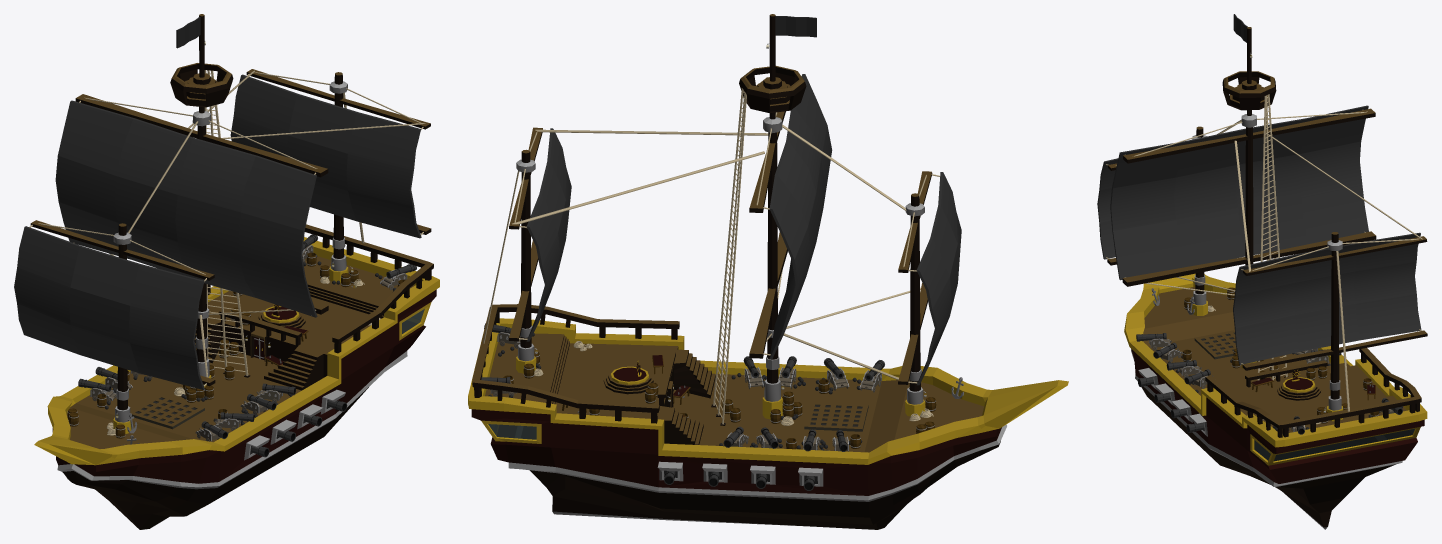
File: pirateship-greggoryfisher.glb
The picture shows the model from 3 angles, left to right: view 1: azimuth 30°, elevation 25°; view 2: azimuth 150°, elevation 25°; view 3: azimuth 270°, elevation 25°; orthographic projection. The views are drawn at different scales.
Visible parts, largest first — view 1: SM_Galleon; view 2: SM_Galleon; view 3: SM_Galleon.
Boxes of the visible parts, x1,y1,x2,y2 form: SM_Galleon: [14, 14, 439, 529]; SM_Galleon: [468, 14, 1068, 529]; SM_Galleon: [1097, 14, 1427, 529].
Size of the model in its own units: 60.68 by 58.56 by 40.65.
